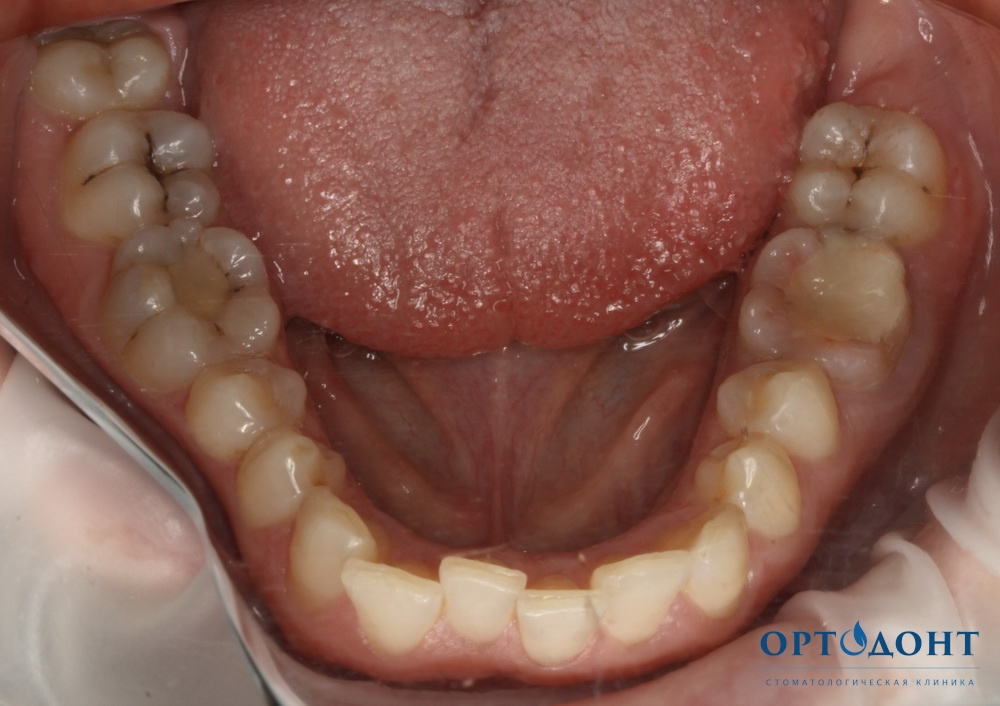LL1BC_healthy: (684, 422, 806, 542)
LL1M_healthy: (741, 216, 908, 377)
LL2BC_healthy: (699, 348, 847, 474)
LL2M_decay: (772, 101, 955, 239)
LLCI_healthy: (517, 558, 597, 660)
LLC_healthy: (674, 510, 751, 622)
LLLI_healthy: (590, 534, 684, 648)
LR1BC_healthy: (230, 433, 346, 522)
LR1M_decay: (103, 226, 280, 379)
LR2BC_healthy: (187, 351, 313, 453)
LR2M_decay: (62, 109, 218, 243)
LR3M_decay: (20, 19, 179, 110)
LRCI_healthy: (436, 550, 532, 642)
LRC_healthy: (284, 490, 377, 608)
LRLI_healthy: (343, 553, 442, 655)
